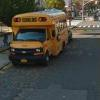Bus: (8, 7, 74, 66)
